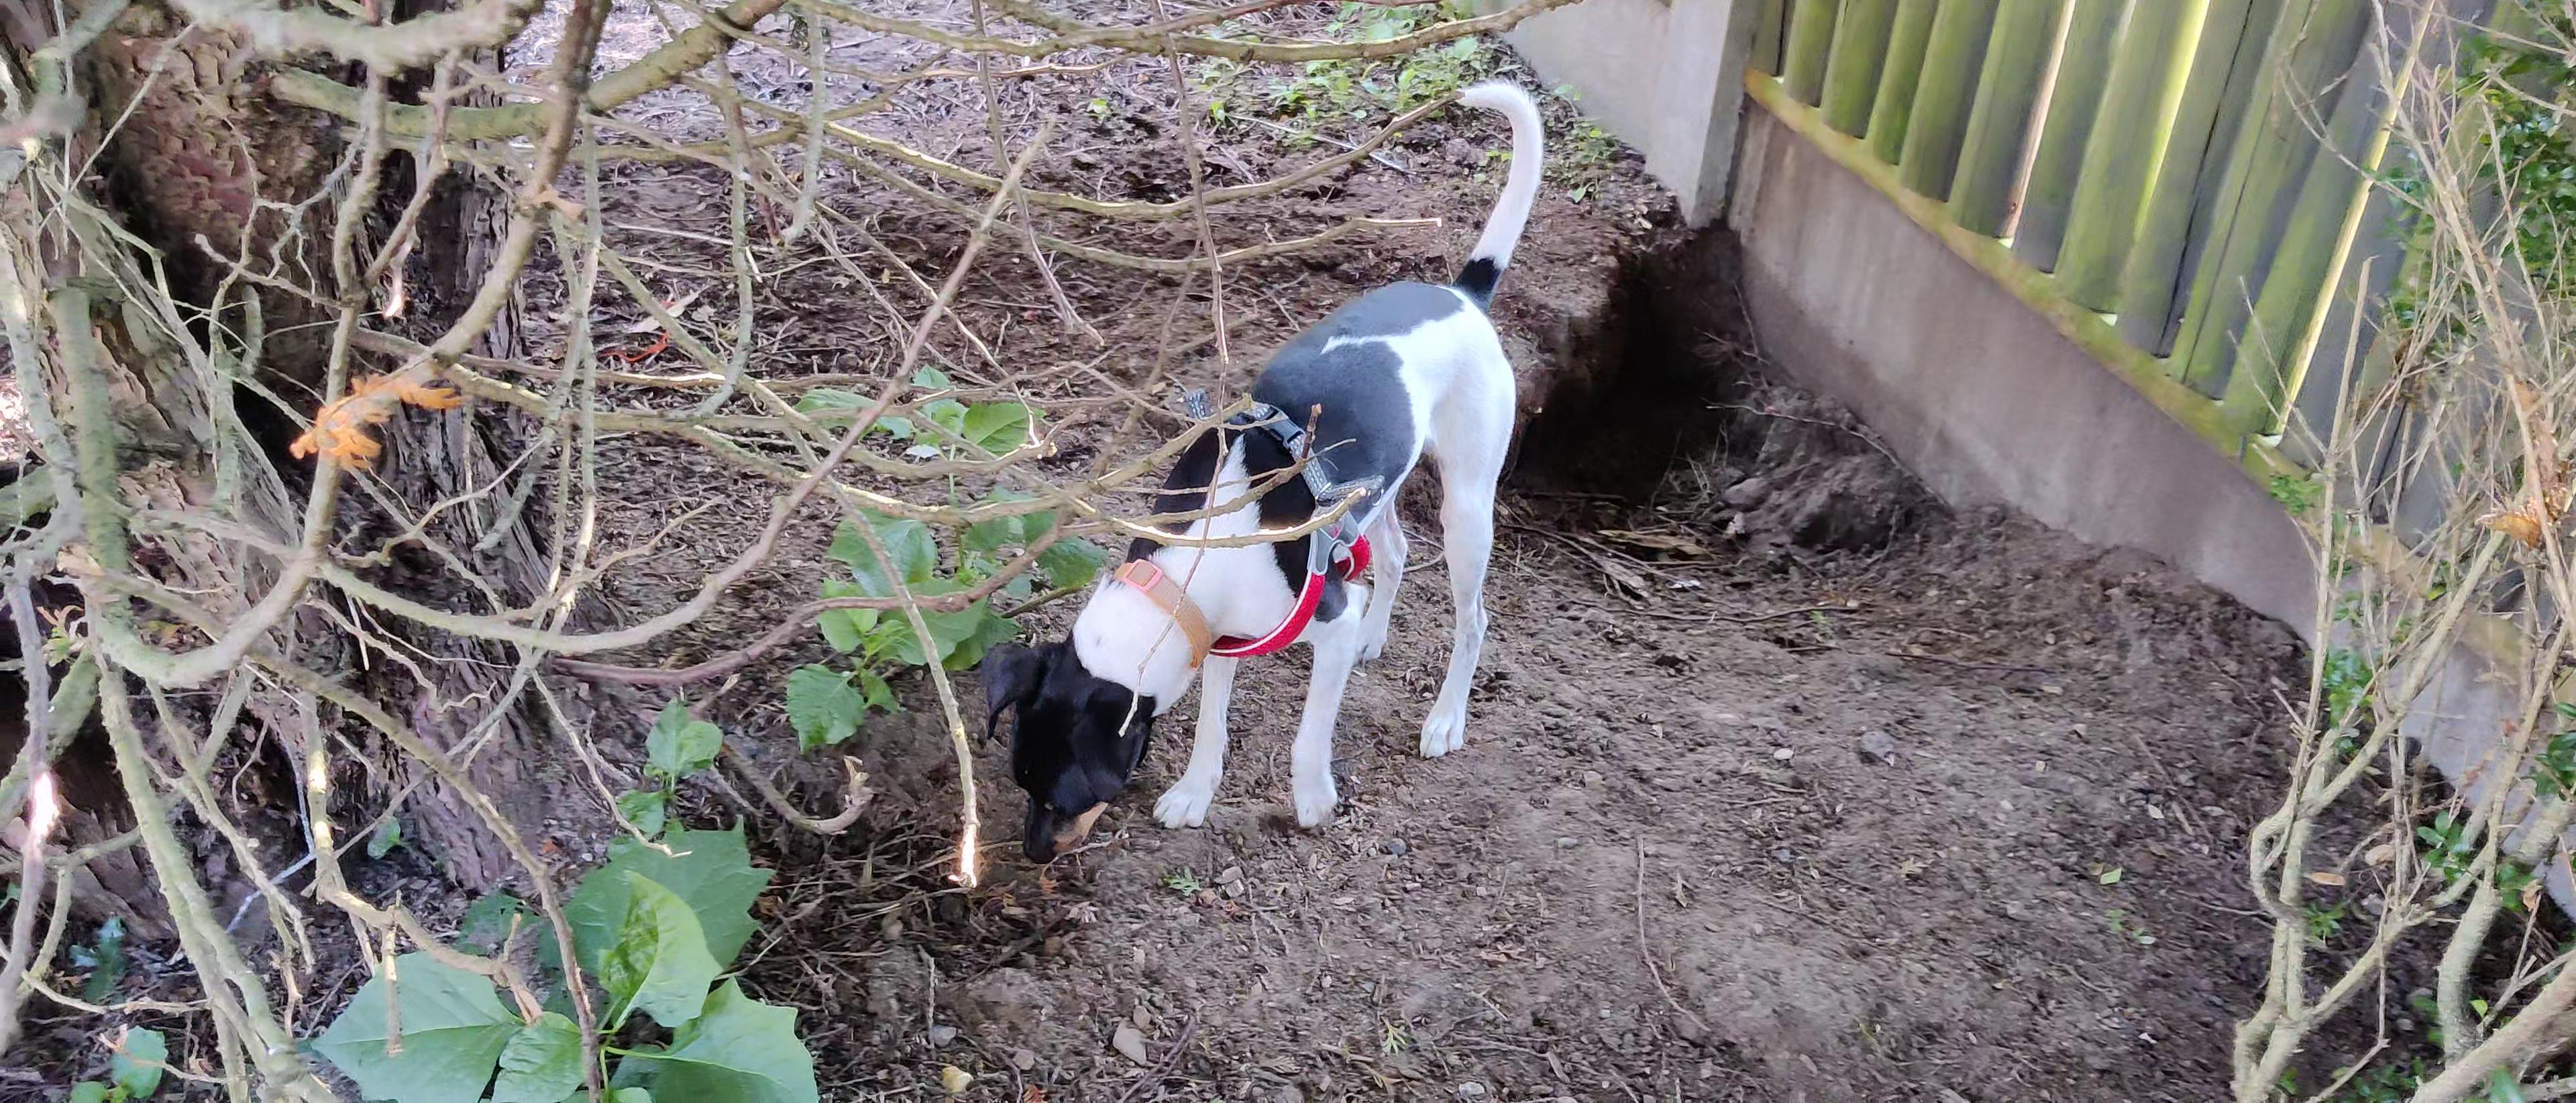Dog: (959, 66, 1559, 881)
